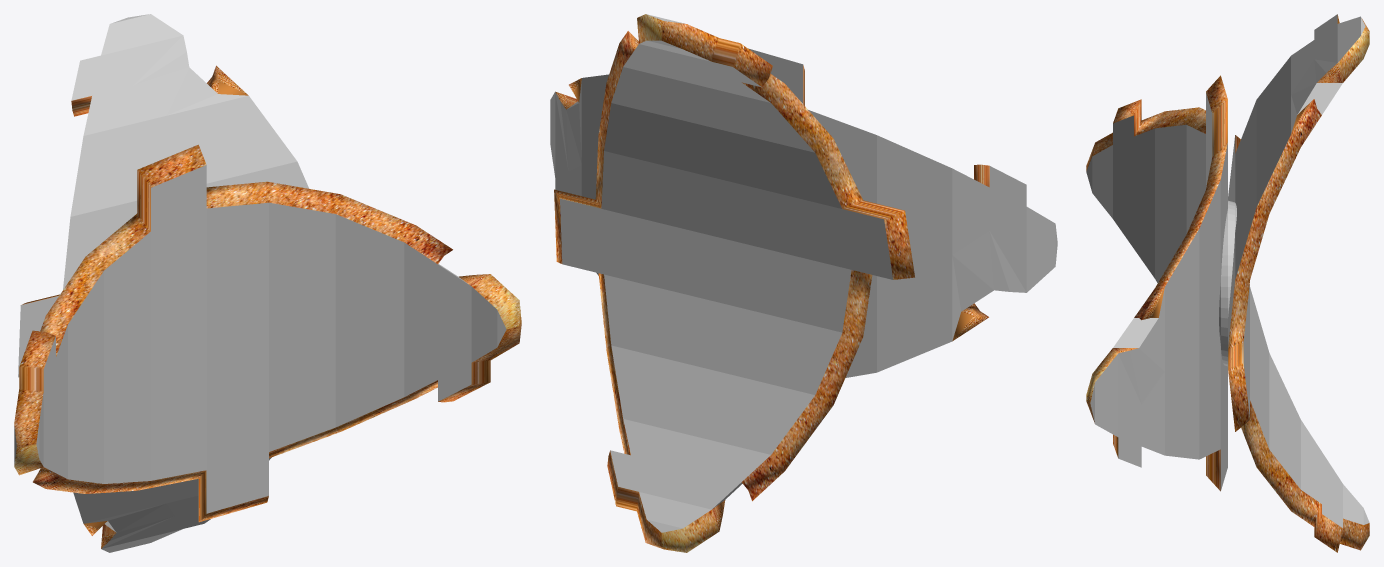
The model's file is slivers2.obj.
The picture shows the model from 3 angles, left to right: view 1: azimuth 30°, elevation 25°; view 2: azimuth 150°, elevation 25°; view 3: azimuth 270°, elevation 25°; orthographic projection. The views are drawn at different scales.
Visible parts, largest first — view 1: Torus; view 2: Torus; view 3: Torus.
Part boxes in pixels (<box>): Torus: <box>14,14,521,552</box>; Torus: <box>550,14,1057,552</box>; Torus: <box>1086,14,1369,552</box>.
Size of the model in its own units: 3.64 by 3.64 by 1.82.
